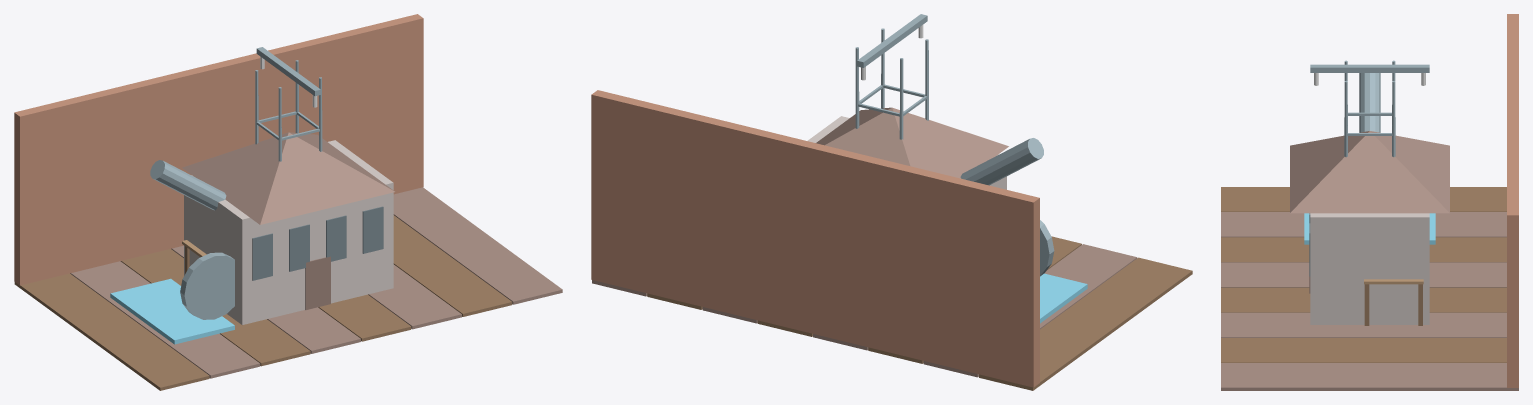
File: tesla.glb
3 renders of one model, left to right at view 1: azimuth 30°, elevation 25°; view 2: azimuth 150°, elevation 25°; view 3: azimuth 270°, elevation 25°, orthographic. The views are drawn at different scales.
Visible parts, largest first — view 1: tl_wall, tp_building, tp_roof, tl_board0, tl_board7, tl_board6, tl_board1, tl_board2, tp_water, tp_wheel, tl_board5, tl_board3 (+8 smaller); view 2: tl_wall, tl_board0, tp_roof, tl_board1, tp_pipe, tp_water, tpy_arm, tl_board2, tp_wheel; view 3: tp_building, tp_roof, tl_board7, tl_board6, tl_board5, tl_wall, tl_board4, tl_board3, tl_board2, tl_board1, tl_board0, tp_pipe (+5 smaller).
Boxes of the visible parts, left/top/right/bottom form: tl_wall: left=14, top=14, right=423, bottom=285; tp_building: left=184, top=140, right=393, bottom=324; tp_roof: left=182, top=132, right=394, bottom=224; tl_board0: left=14, top=273, right=209, bottom=390; tl_board7: left=393, top=187, right=562, bottom=304; tl_board6: left=393, top=215, right=512, bottom=316; tl_board1: left=70, top=261, right=260, bottom=378; tl_board2: left=120, top=249, right=310, bottom=366; tp_water: left=110, top=278, right=234, bottom=344; tp_wheel: left=180, top=252, right=234, bottom=319; tl_board5: left=368, top=264, right=461, bottom=329; tl_board3: left=171, top=245, right=360, bottom=353; tl_wall: left=591, top=90, right=1039, bottom=387; tl_board0: left=979, top=257, right=1192, bottom=390; tp_roof: left=816, top=107, right=1008, bottom=178; tl_board1: left=923, top=244, right=1137, bottom=377; tp_pipe: left=960, top=138, right=1043, bottom=185; tp_water: left=1040, top=273, right=1087, bottom=323; tpy_arm: left=857, top=14, right=927, bottom=67; tl_board2: left=868, top=236, right=1081, bottom=363; tp_wheel: left=1040, top=220, right=1054, bottom=276; tp_building: left=1310, top=213, right=1429, bottom=324; tp_roof: left=1290, top=131, right=1449, bottom=213; tl_board7: left=1221, top=363, right=1518, bottom=390; tl_board6: left=1221, top=338, right=1506, bottom=362; tl_board5: left=1221, top=312, right=1506, bottom=337; tl_wall: left=1507, top=14, right=1518, bottom=387; tl_board4: left=1221, top=287, right=1506, bottom=312; tl_board3: left=1221, top=262, right=1506, bottom=287; tl_board2: left=1221, top=237, right=1506, bottom=262; tl_board1: left=1221, top=212, right=1506, bottom=237; tl_board0: left=1221, top=187, right=1506, bottom=211; tp_pipe: left=1359, top=73, right=1380, bottom=132.
Size of the model in its own units: 8 by 4.16 by 5.
